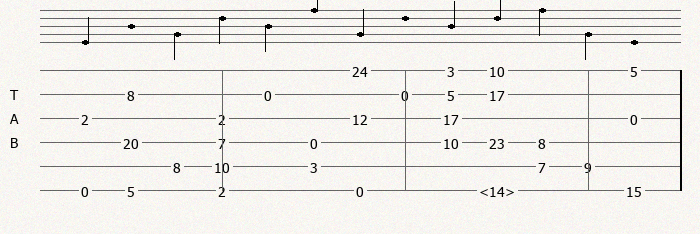0: (81, 183, 93, 197), (264, 87, 276, 101), (310, 135, 322, 149), (356, 183, 368, 197), (401, 87, 413, 101), (630, 111, 642, 125)
10: (214, 159, 234, 173), (443, 135, 463, 149), (489, 63, 509, 77)
12: (352, 111, 372, 125)
15: (626, 183, 646, 197)
17: (443, 111, 463, 125), (489, 87, 509, 101)
2: (81, 111, 93, 125), (218, 111, 230, 125), (218, 183, 230, 197)
20: (123, 135, 143, 149)
23: (489, 135, 509, 149)
24: (352, 63, 372, 77)
3: (310, 159, 322, 173), (447, 63, 459, 77)
5: (127, 183, 139, 197), (447, 87, 459, 101), (630, 63, 642, 77)
7: (218, 135, 230, 149), (538, 159, 550, 173)
8: (127, 87, 139, 101), (173, 159, 185, 173), (538, 135, 550, 149)
9: (584, 159, 596, 173)
harmonic: (479, 183, 519, 197)
